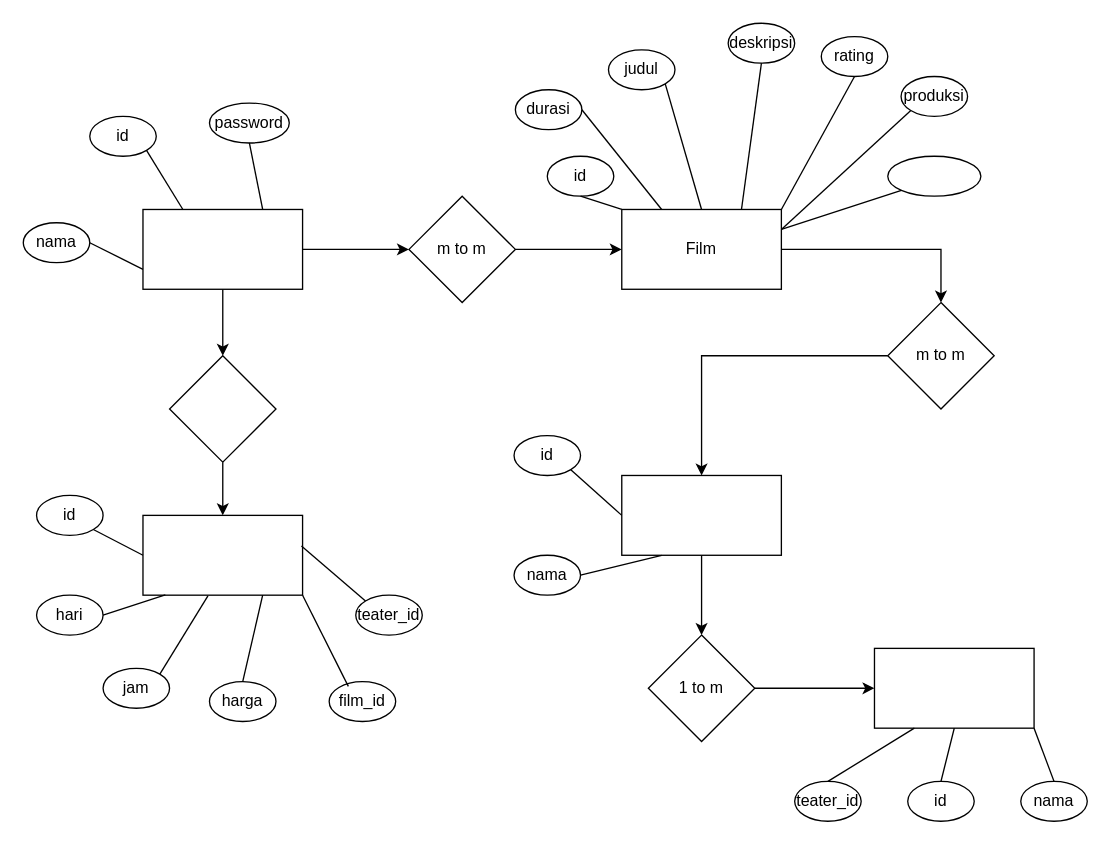
This 1111x845 diagram has some shape labels left out. Each missing label, with the centre of its shape:
"distributor" belongs at (x=933, y=175).
"Jadwal" belongs at (x=222, y=554).
"Kursi" belongs at (x=953, y=687).
"Operator" belongs at (x=222, y=248).
"Teater" belongs at (x=700, y=514).
